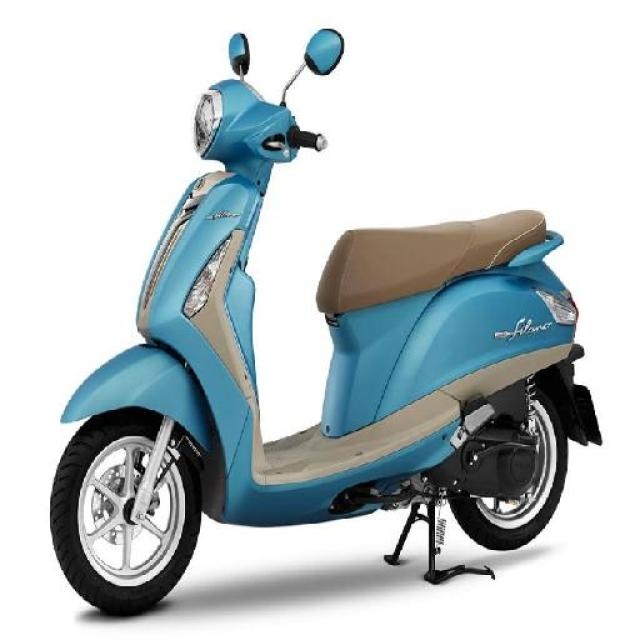All: (45, 31, 608, 620)
Head: (185, 68, 328, 170)
Tail: (494, 203, 574, 291)
